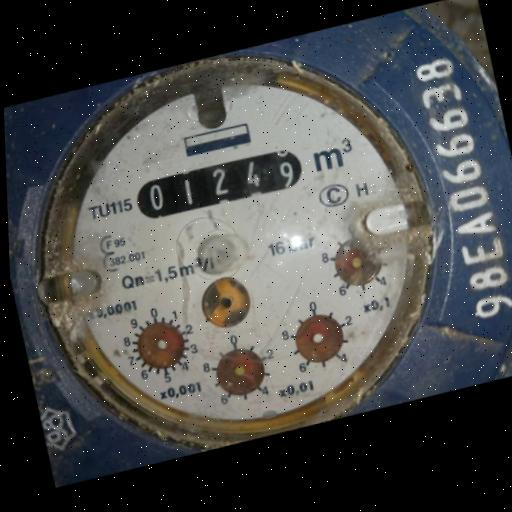0: (142, 175, 169, 219)
1: (177, 168, 201, 210)
2: (205, 160, 236, 204)
4: (238, 151, 271, 197)
9: (269, 146, 299, 190)
border_water_meter_number: (131, 143, 306, 223)
